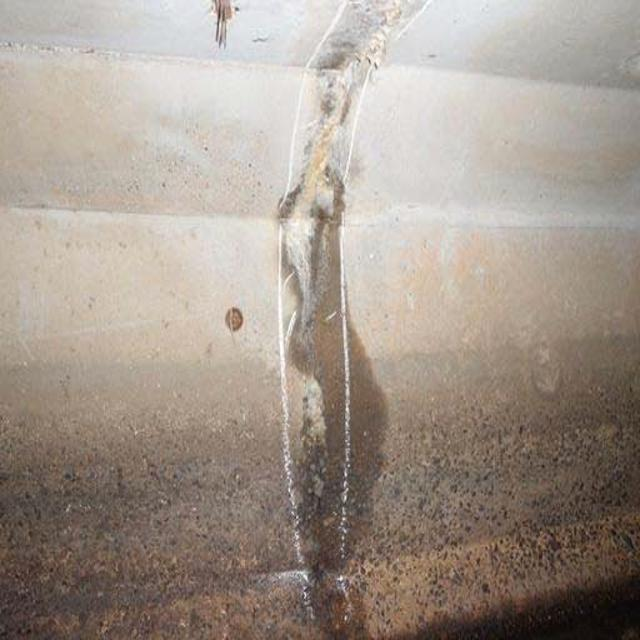freelime: (284, 10, 386, 627)
